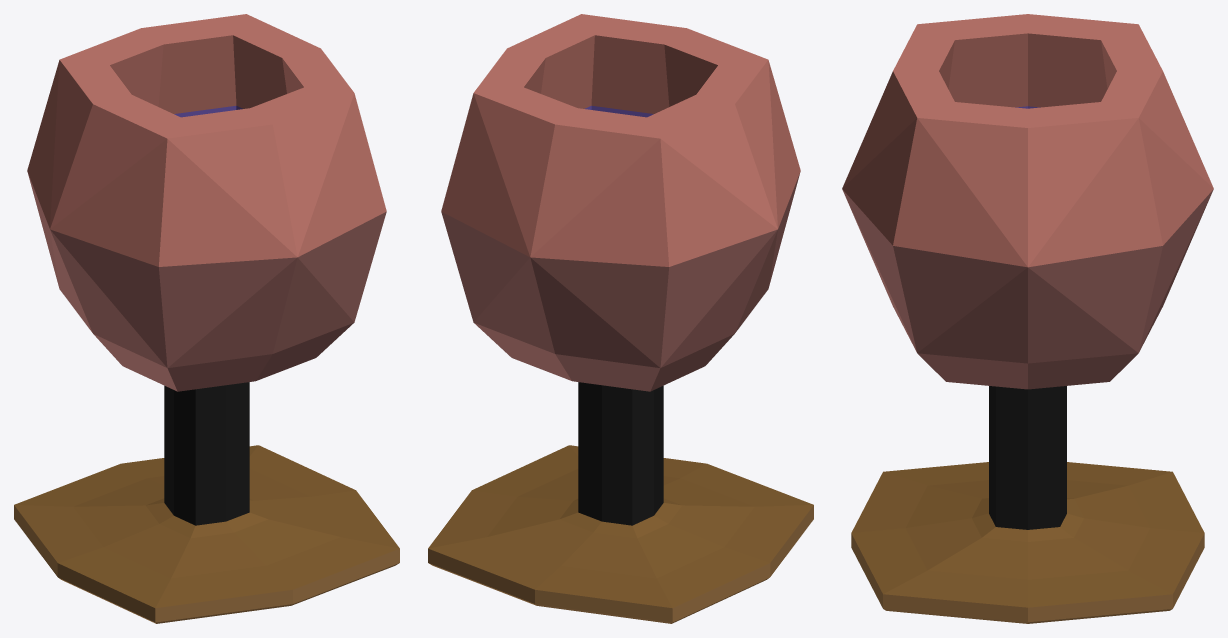
Rendered from bwoop.obj.
3 views of the same model, side by side, from view 1: azimuth 30°, elevation 25°; view 2: azimuth 150°, elevation 25°; view 3: azimuth 270°, elevation 25° (orthographic). The views are drawn at different scales.
Parts seen in each view (by area): view 1: Cube; view 2: Cube; view 3: Cube.
Boxes of the visible parts, x1,y1,x2,y2 form: Cube: [14, 14, 399, 623]; Cube: [428, 14, 813, 623]; Cube: [842, 14, 1213, 623].
Size of the model in its own units: 1.68 by 2.39 by 1.68.
